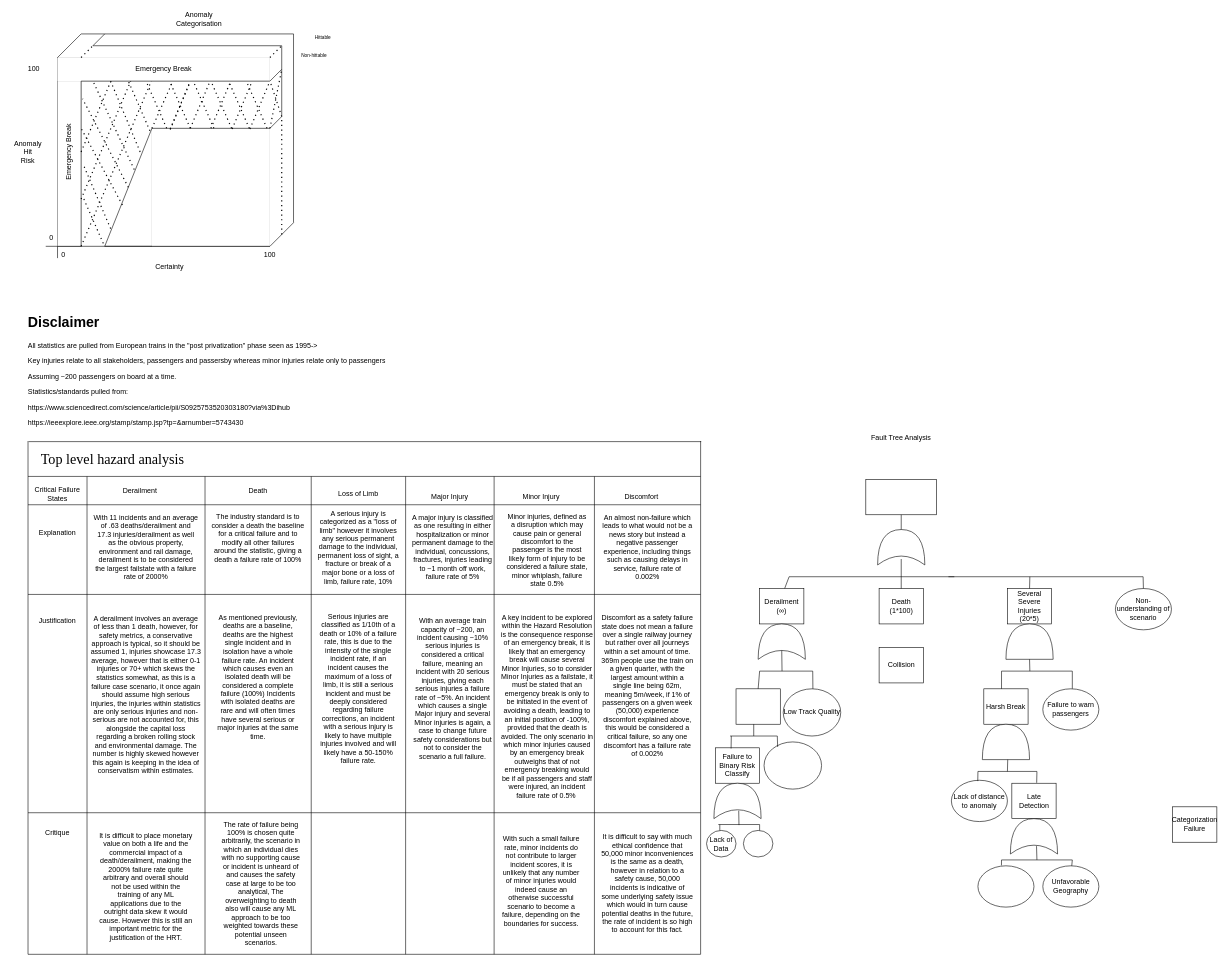
Some shapes in this 1227 by 965 pixel diagram are drawn without their labels. Here are the shapes that lost their labels. From the top down, the box of each, then its label:
(152, 128, 270, 246): Drive as normal
(865, 479, 937, 515): Failure Scenario
(735, 688, 780, 724): Collision with Danger Object
(763, 741, 822, 789): Miscalculation of breaking distance
(743, 830, 773, 857): Unclear Physical Values
(977, 865, 1034, 907): Low Camera Quality
